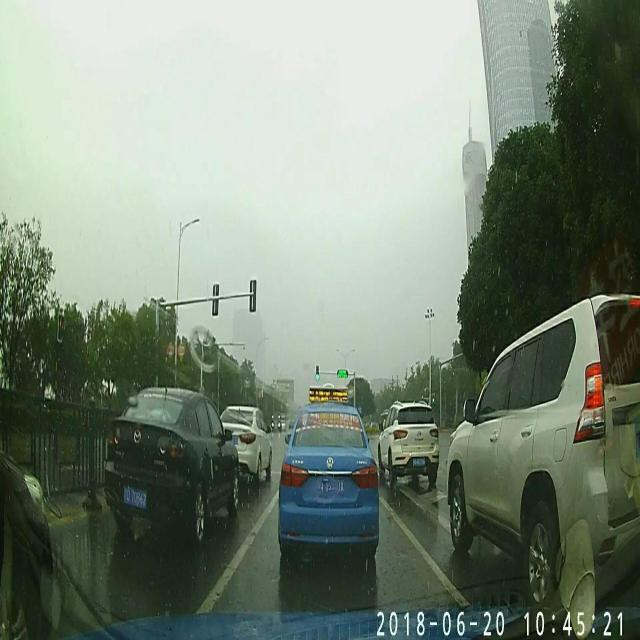car: (446, 296, 638, 609), (103, 386, 240, 540), (277, 400, 380, 558), (376, 401, 439, 486), (216, 404, 274, 484)
